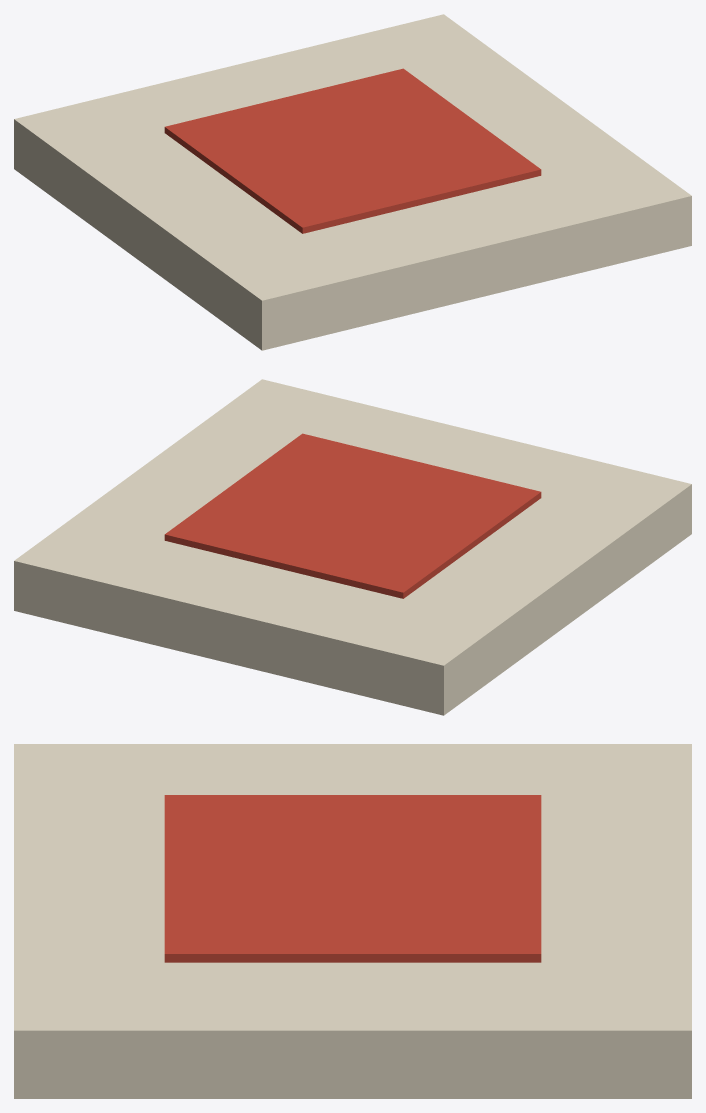
Rendered from trash-pizza.obj.
3 views of the same model, one above another, from view 1: azimuth 30°, elevation 25°; view 2: azimuth 150°, elevation 25°; view 3: azimuth 270°, elevation 25° (orthographic). The views are drawn at different scales.
Visible parts, largest first — view 1: part1.nocast, part2.nocast; view 2: part1.nocast, part2.nocast; view 3: part1.nocast, part2.nocast.
Part boxes in pixels (<box>): part1.nocast: <box>14,14,691,350</box>; part2.nocast: <box>164,68,541,233</box>; part1.nocast: <box>14,379,691,715</box>; part2.nocast: <box>164,433,541,598</box>; part1.nocast: <box>14,744,691,1098</box>; part2.nocast: <box>164,795,541,962</box>.
Size of the model in its own units: 0.36 by 0.0475 by 0.36.
